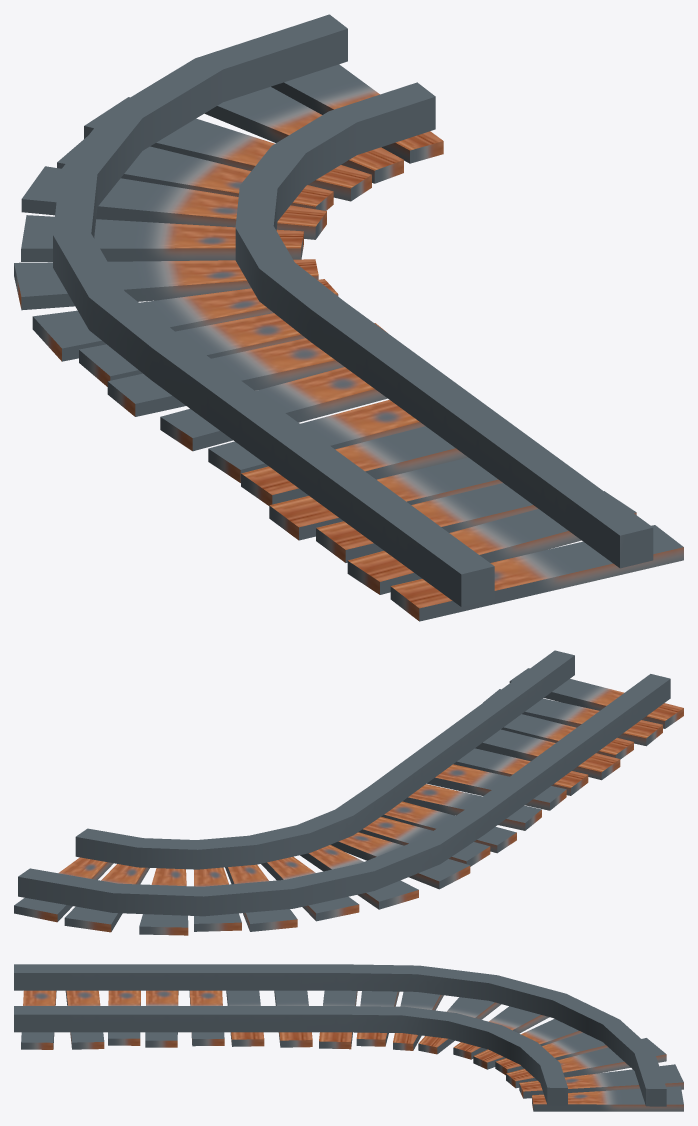
Rendered from long_turn_r_3.fbx.
The picture shows the model from 3 angles, top to bottom: view 1: azimuth 30°, elevation 25°; view 2: azimuth 150°, elevation 25°; view 3: azimuth 270°, elevation 25°; orthographic projection. The views are drawn at different scales.
Visible parts, largest first — view 1: long_turn_r_3; view 2: long_turn_r_3; view 3: long_turn_r_3.
Part boxes in pixels (x1,y1,x2,y2): long_turn_r_3: [14, 14, 683, 621]; long_turn_r_3: [14, 650, 683, 935]; long_turn_r_3: [14, 964, 683, 1111].
Size of the model in its own units: 24.01 by 2.08 by 50.37.
